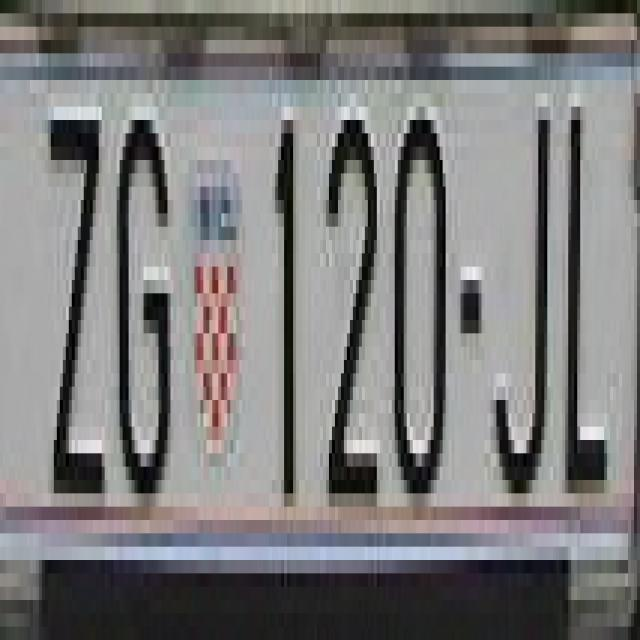0: (382, 94, 446, 494)
1: (260, 93, 302, 520)
2: (320, 94, 377, 494)
G: (116, 107, 176, 493)
L: (553, 80, 610, 533)
Z: (45, 80, 108, 480)
